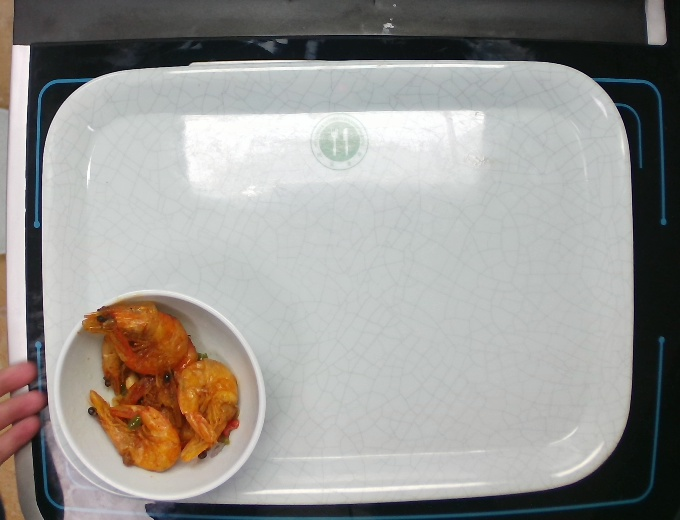JYsf-Fan_Wan: (48, 285, 270, 504)
